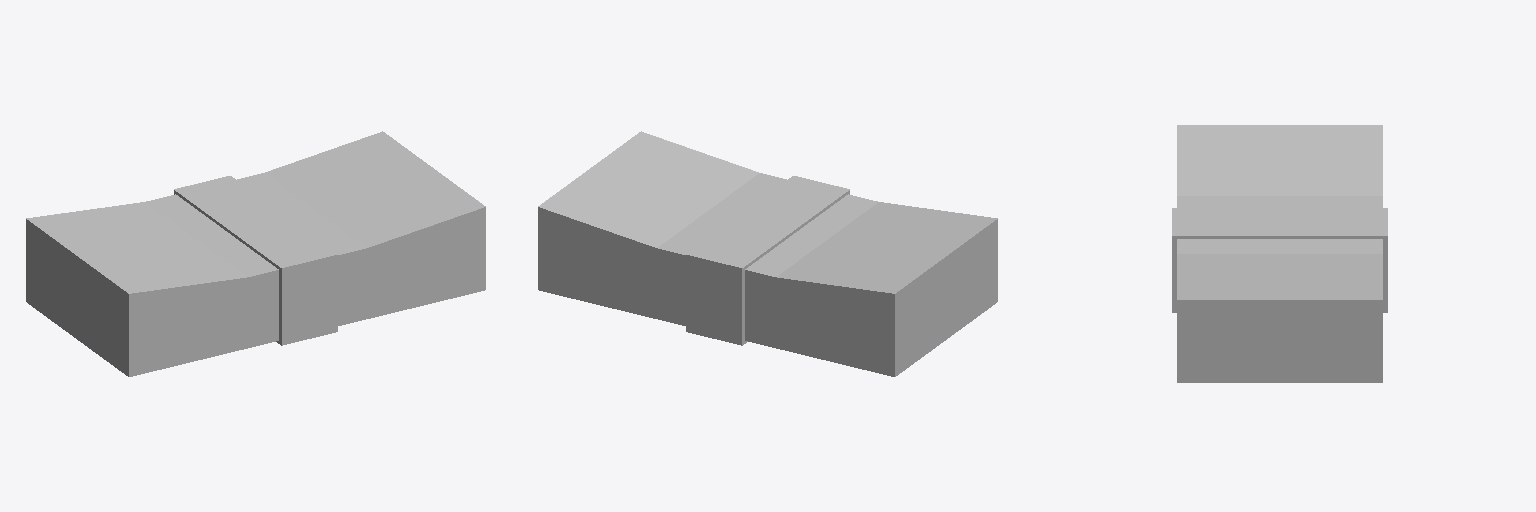
File: notebundle.obj
3 renders of one model, left to right at view 1: azimuth 30°, elevation 25°; view 2: azimuth 150°, elevation 25°; view 3: azimuth 270°, elevation 25°, orthographic.
Parts seen in each view (by area): view 1: Cube, Cube.001; view 2: Cube, Cube.001; view 3: Cube, Cube.001.
Part boxes in pixels (x1,y1,x2,y2): Cube: (26, 131, 485, 376); Cube.001: (174, 176, 337, 345); Cube: (538, 131, 997, 376); Cube.001: (686, 176, 849, 345); Cube: (1177, 125, 1382, 382); Cube.001: (1172, 208, 1387, 312).
Bounding box in the file's own units: 6 × 1.39 × 3.14.